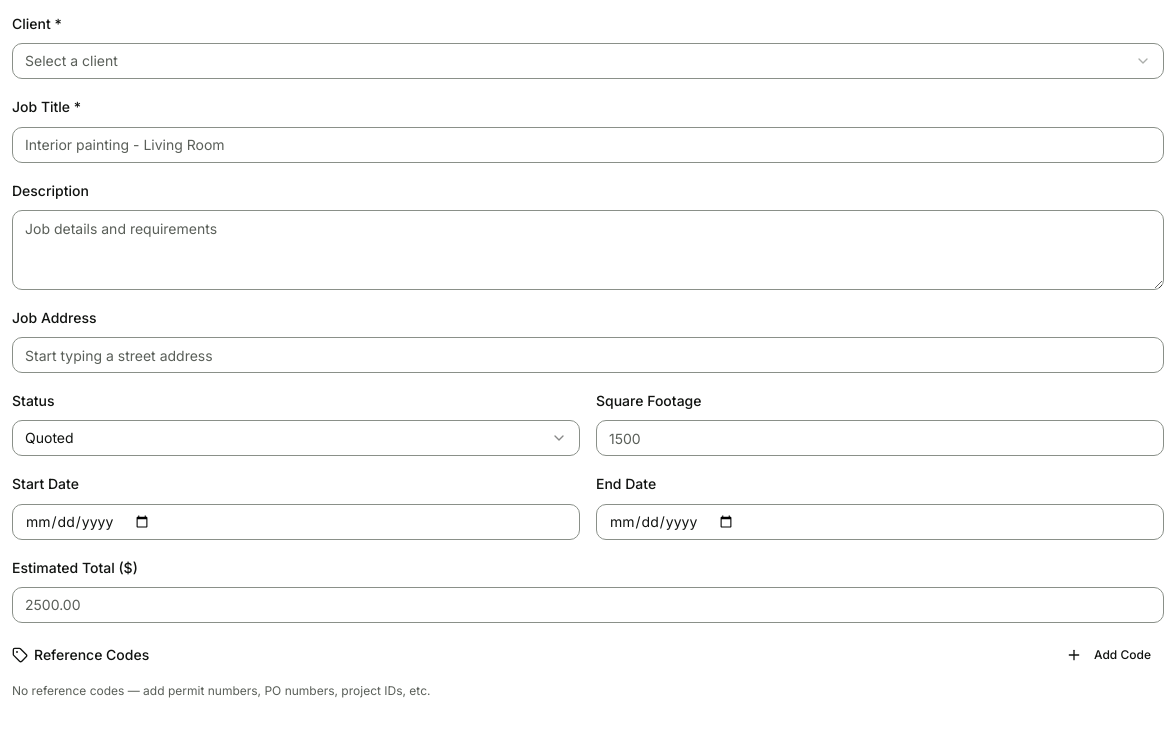
Test case: JobForm: add a client in place › keeps the option available when clients already exist
The width and height of the screenshot is (1176, 732).
What coordinates should you click on to do the following:
click the dropdown with test id "select-job-client"
I would click on:
 (71, 61)
Its box is [12,43,1164,79].
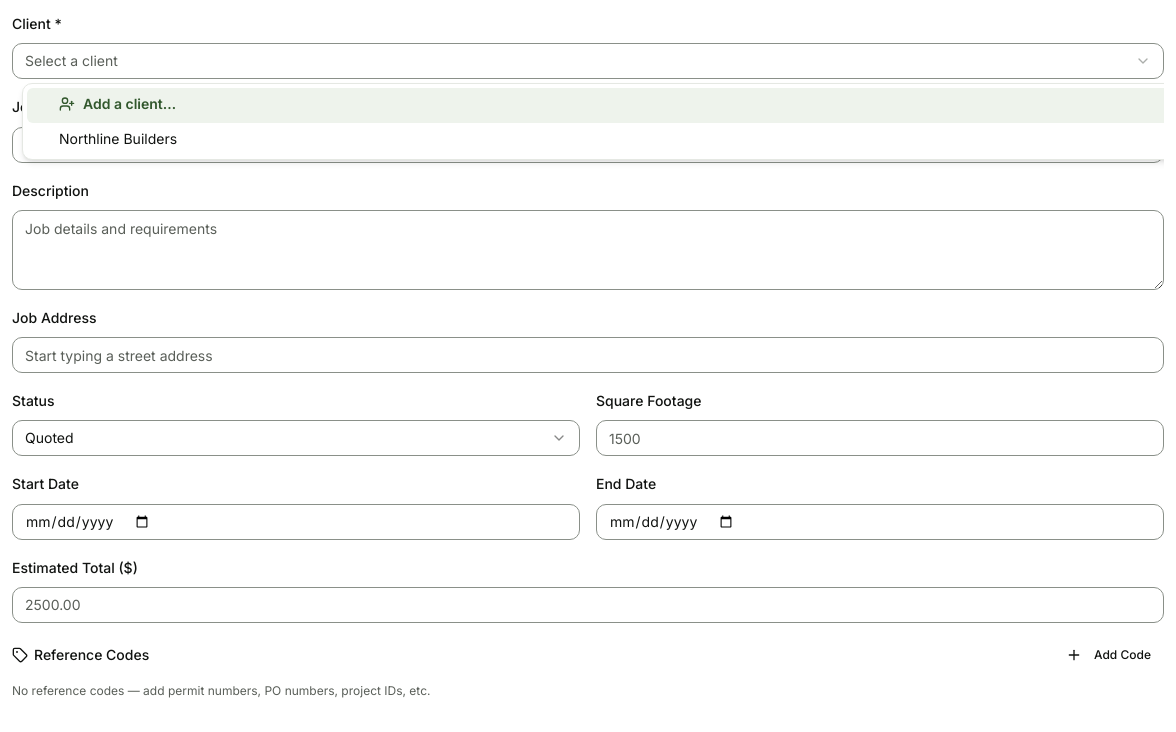
What coordinates should you click on to do the following:
click the option "Northline Builders"
I would click on:
 (118, 138)
Its box is [59,130,177,147].
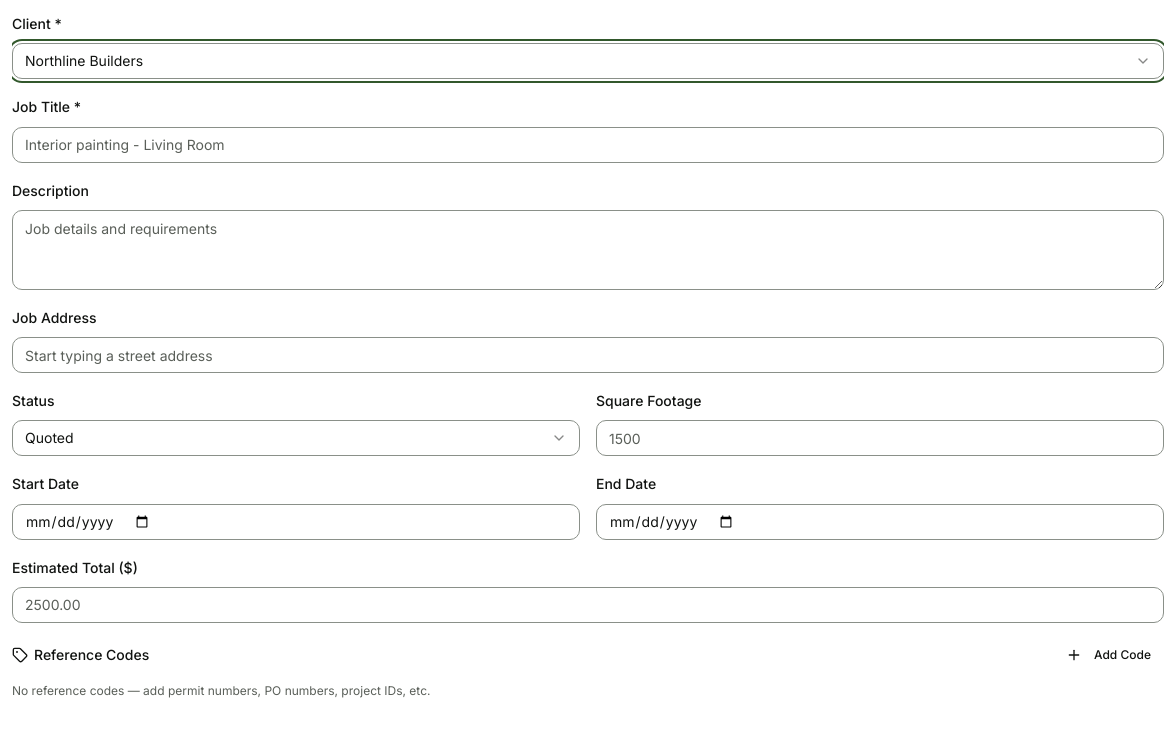
Now the dropdown with test id "select-job-client" reads "Northline Builders", box [12,43,1164,79]
